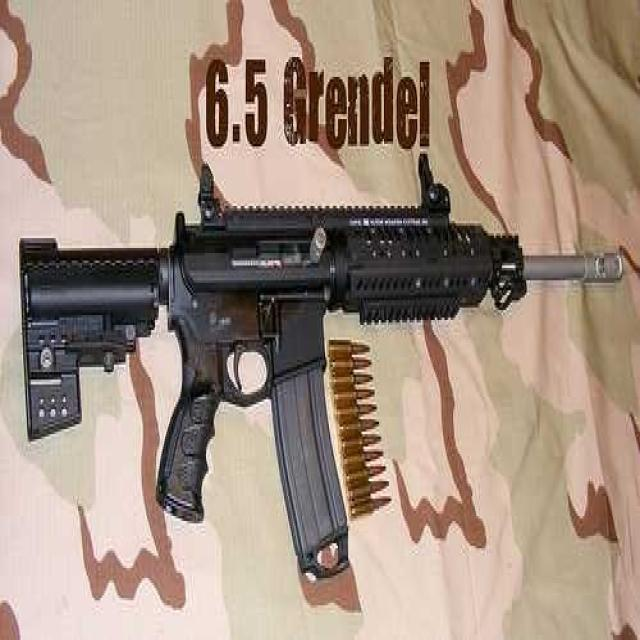Rifle: (14, 158, 627, 578)
